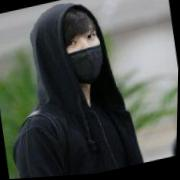WRONG: (58, 24, 109, 89)
